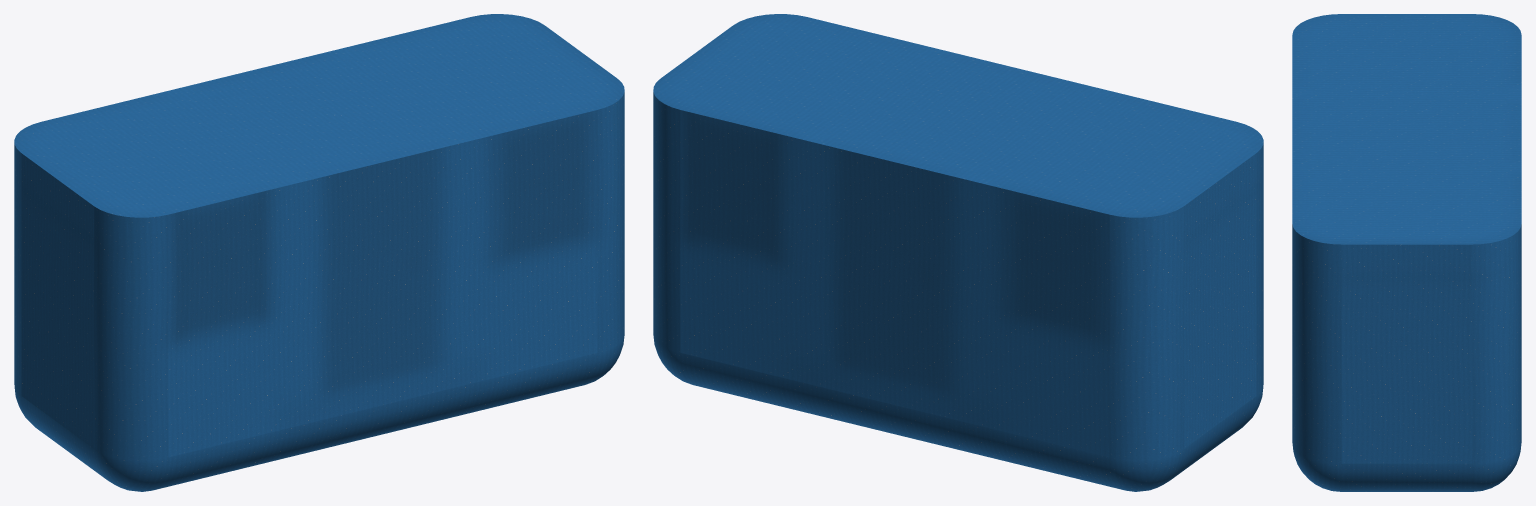
Rendered from 1-upright-tin-band-1-1.fbx.
The picture shows the model from 3 angles, left to right: view 1: azimuth 30°, elevation 25°; view 2: azimuth 150°, elevation 25°; view 3: azimuth 270°, elevation 25°; orthographic projection. The views are drawn at different scales.
Visible parts, largest first — view 1: upright-tin-band-1-1; view 2: upright-tin-band-1-1; view 3: upright-tin-band-1-1.
Part boxes in pixels (box(x1,y1,x2,y2)): upright-tin-band-1-1: box(14, 14, 624, 491); upright-tin-band-1-1: box(653, 14, 1263, 491); upright-tin-band-1-1: box(1292, 14, 1521, 491).
Size of the model in its own units: 10000 by 5333 by 4200.
Materials: 1 (1 with a texture image).
